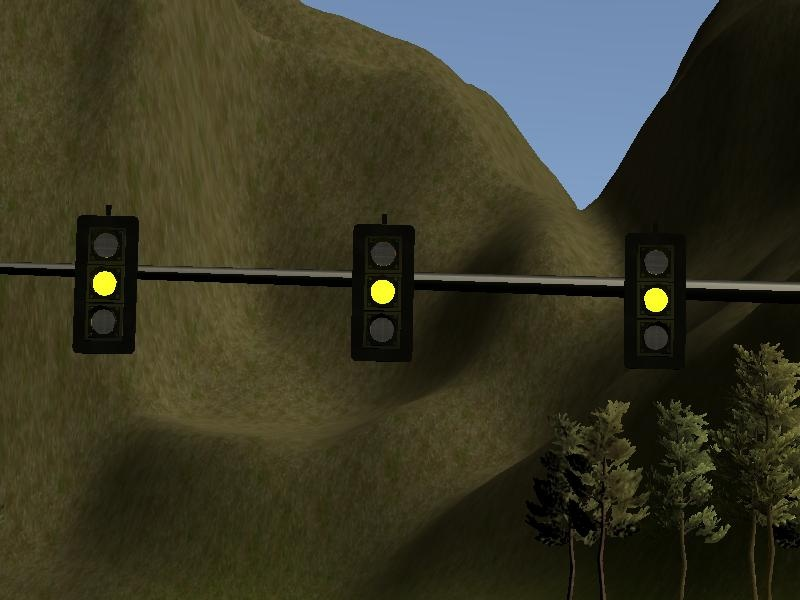YELLOW: (72, 215, 137, 356), (349, 221, 414, 362), (622, 226, 687, 367)
